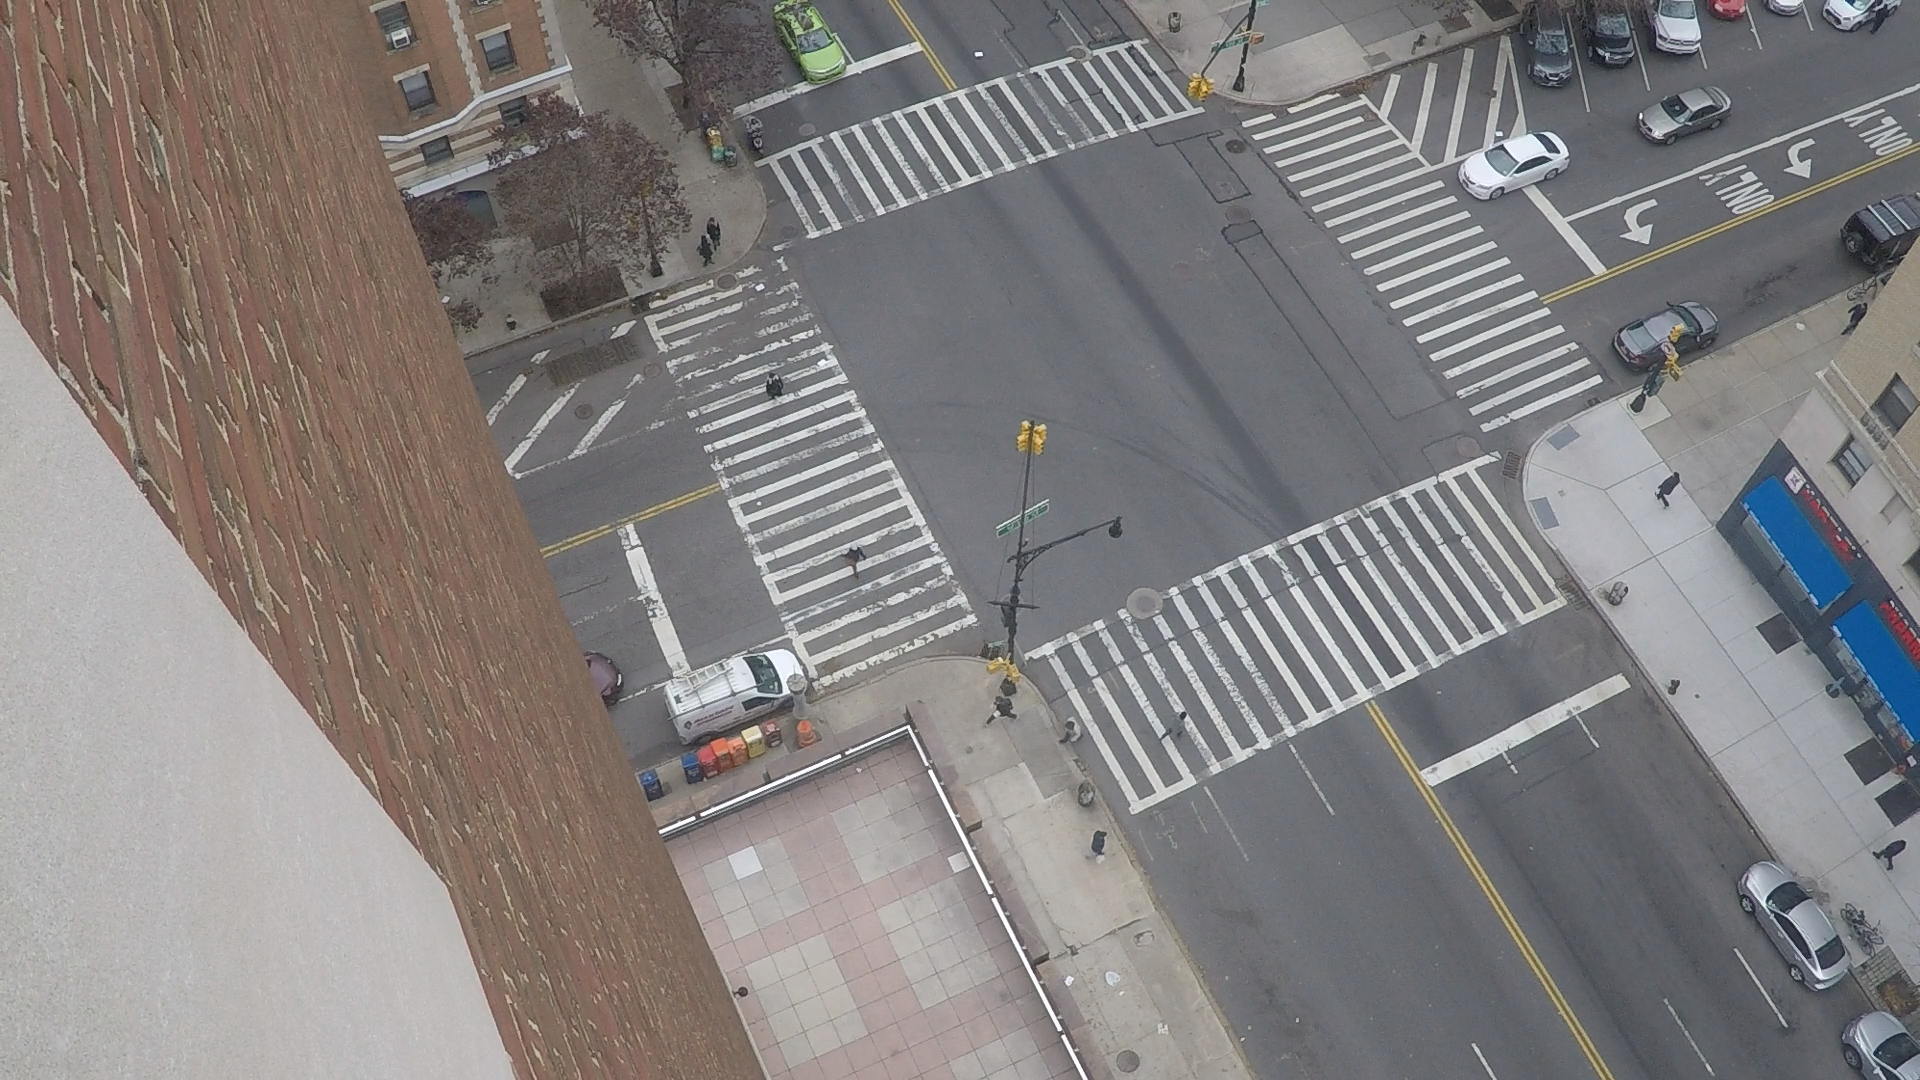Car: (814, 0, 845, 58), (795, 654, 799, 662), (1692, 300, 1701, 303), (1763, 0, 1764, 3)
Pedestrian: (757, 119, 762, 123), (1099, 830, 1105, 832), (1903, 839, 1906, 843), (1674, 472, 1679, 473), (1183, 711, 1187, 712), (1001, 696, 1005, 698), (856, 545, 860, 546), (773, 373, 777, 375), (712, 217, 715, 219), (1074, 717, 1075, 719)
